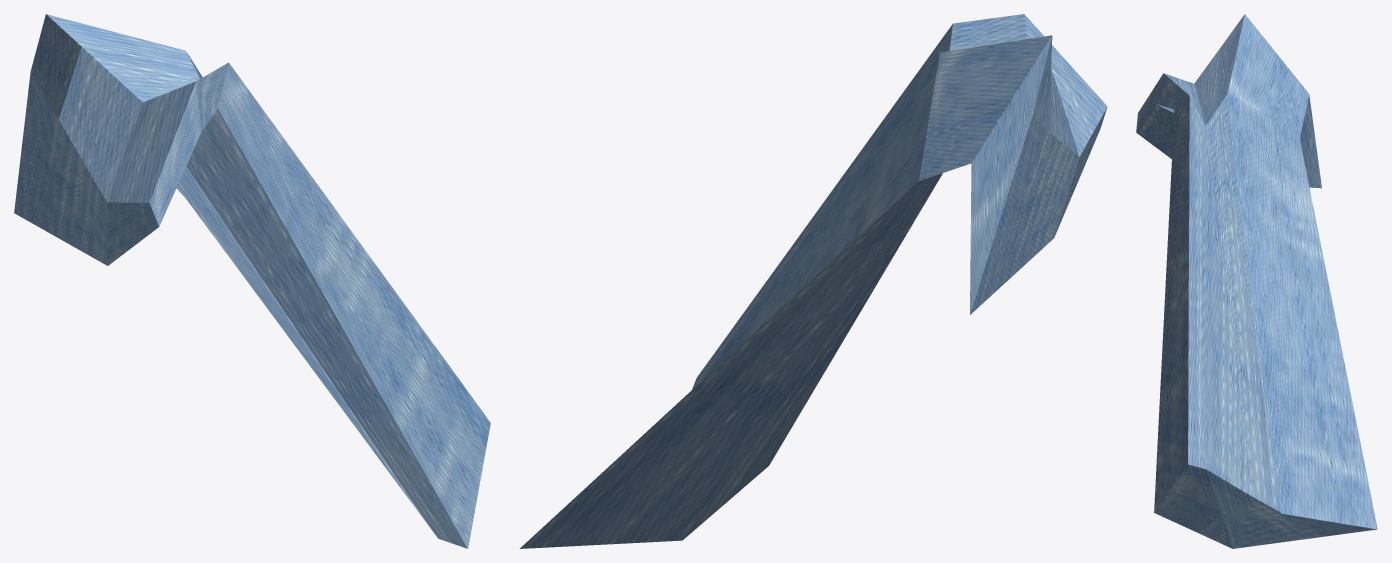
File: cloth.gltf
The picture shows the model from 3 angles, left to right: view 1: azimuth 30°, elevation 25°; view 2: azimuth 150°, elevation 25°; view 3: azimuth 270°, elevation 25°; orthographic projection. The views are drawn at different scales.
Visible parts, largest first — view 1: 큐브; view 2: 큐브; view 3: 큐브.
Boxes of the visible parts, bbox=[...] form: 큐브: bbox=[14, 14, 490, 548]; 큐브: bbox=[520, 14, 1107, 548]; 큐브: bbox=[1136, 14, 1377, 548].
Size of the model in its own units: 46.64 by 61.93 by 33.1.
Materials: 1 (1 with a texture image).
